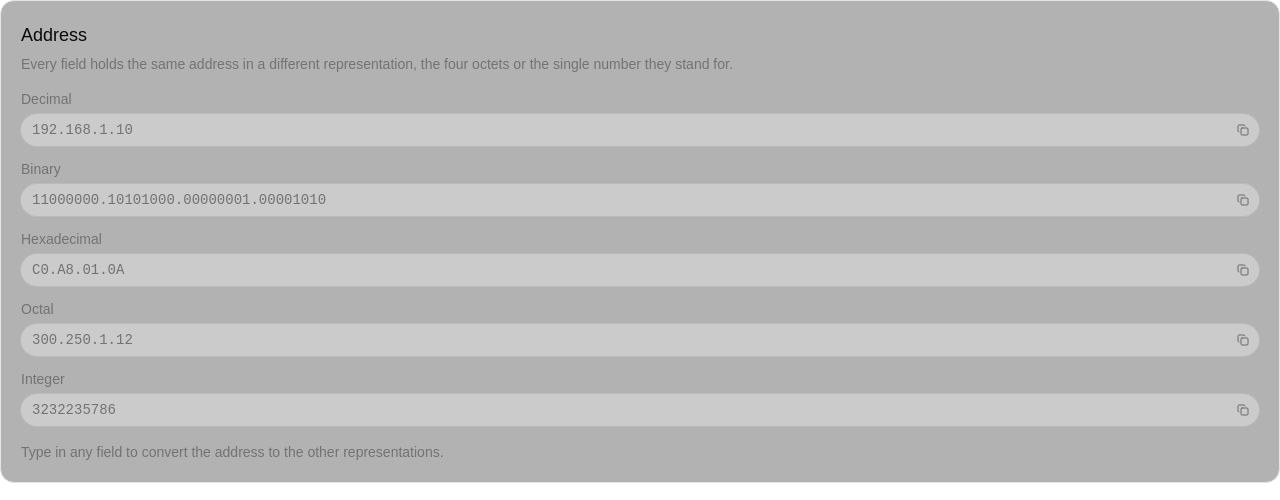
it: AddressSection › flags an integer outside the 32-bit range while keeping the octets of the last valid value
In the field labelled "Integer": (626, 410) [22,394,1231,426], type "4294967296"
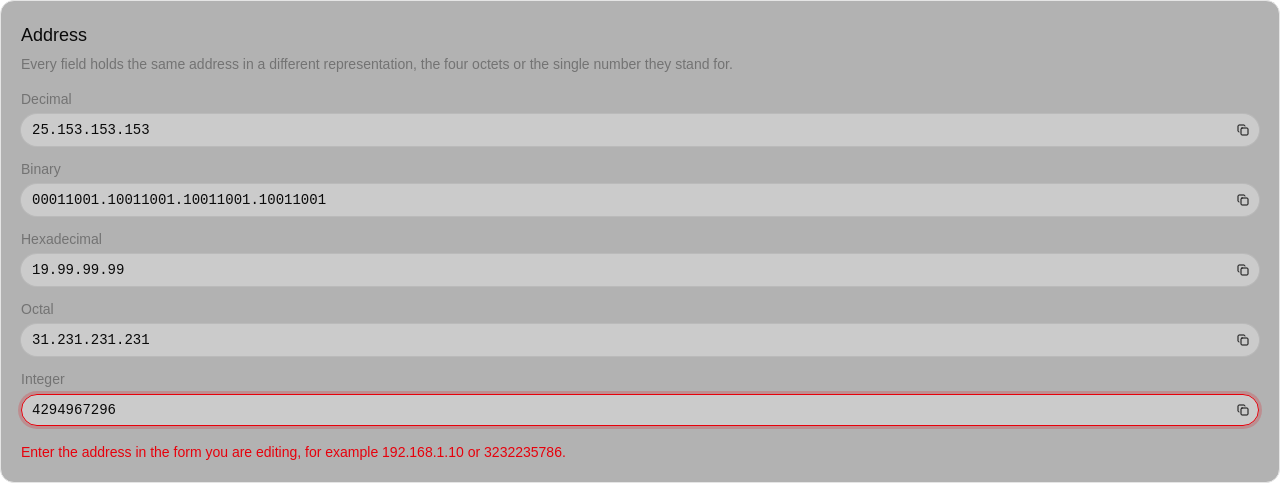
Expected: the field labelled "Decimal" holds "25.153.153.153", [22,114,1231,146]
Expected: the text "Enter the address in the form you are editing, for example 192.168.1.10 or 3232235786." is shown, [21,444,566,460]
